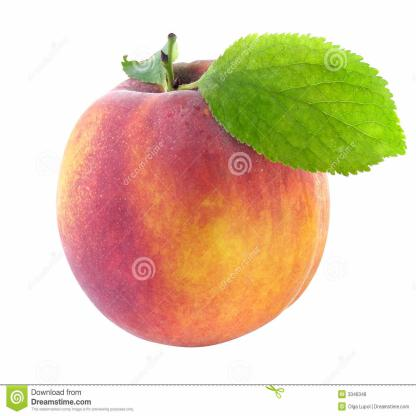peach leaf: (198, 26, 412, 177)
